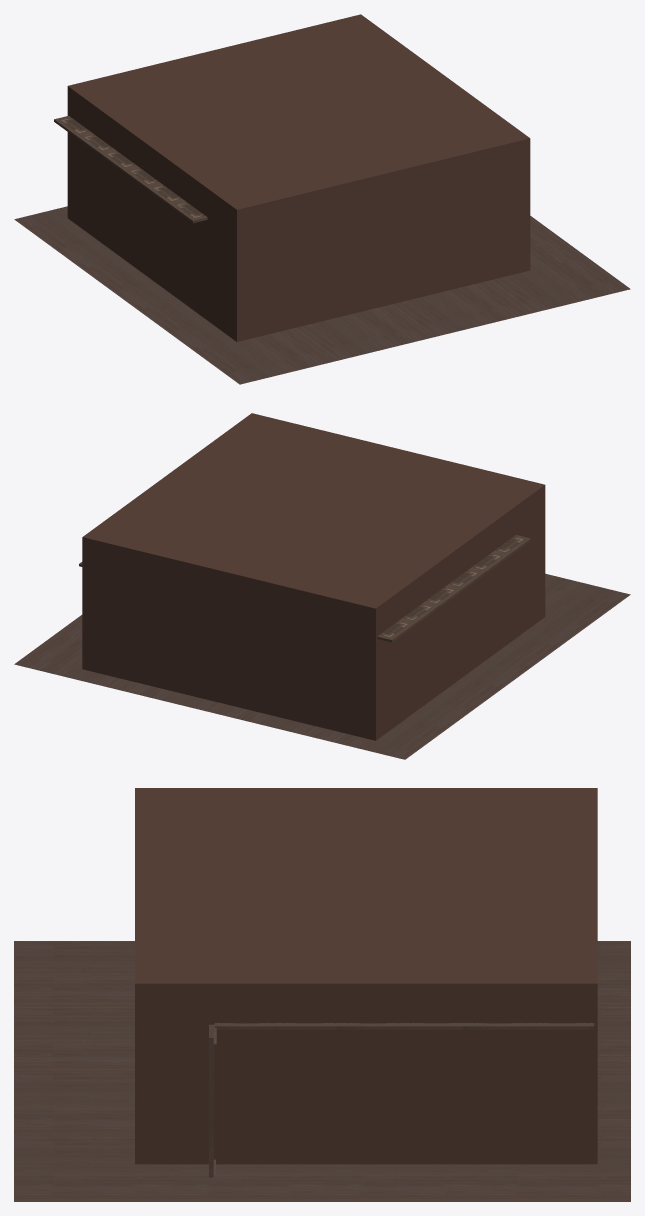
Rendered from IndoorScene_Ly_Baizhu.fbx.
The picture shows the model from 3 angles, top to bottom: view 1: azimuth 30°, elevation 25°; view 2: azimuth 150°, elevation 25°; view 3: azimuth 270°, elevation 25°; orthographic projection. The views are drawn at different scales.
Visible parts, largest first — view 1: Indoor_Ly_Prop_Filling_01_Vo, Level_Fc_Build_Comp_Room_A_Floor_01_Vo (×3), Level_Fc_Build_Comp_Room_B_Ceiling_01_Vo (3); view 2: Indoor_Ly_Prop_Filling_01_Vo, Level_Fc_Build_Comp_Room_A_Floor_01_Vo (×3), Level_Fc_Build_Comp_Room_B_Ceiling_01_Vo (3); view 3: Indoor_Ly_Prop_Filling_01_Vo, Level_Fc_Build_Comp_Room_A_Floor_01_Vo (×4), Level_Fc_Build_Comp_Room_B_Ceiling_01_Vo (1), Level_Fc_Build_Comp_Room_Wall_A_01_Vo.
Boxes of the visible parts, x1,y1,x2,y2 form: Indoor_Ly_Prop_Filling_01_Vo: [67, 14, 530, 341]; Level_Fc_Build_Comp_Room_A_Floor_01_Vo (×3): [14, 206, 630, 384]; Level_Fc_Build_Comp_Room_B_Ceiling_01_Vo (3): [54, 115, 207, 223]; Indoor_Ly_Prop_Filling_01_Vo: [82, 413, 545, 740]; Level_Fc_Build_Comp_Room_A_Floor_01_Vo (×3): [14, 573, 630, 759]; Level_Fc_Build_Comp_Room_B_Ceiling_01_Vo (3): [377, 535, 530, 642]; Indoor_Ly_Prop_Filling_01_Vo: [135, 788, 597, 1164]; Level_Fc_Build_Comp_Room_A_Floor_01_Vo (×4): [14, 941, 630, 1201]; Level_Fc_Build_Comp_Room_B_Ceiling_01_Vo (1): [214, 1023, 594, 1029]; Level_Fc_Build_Comp_Room_Wall_A_01_Vo: [209, 1024, 216, 1177].
Size of what is drawn, in the model's own units: 20 by 7 by 20.
